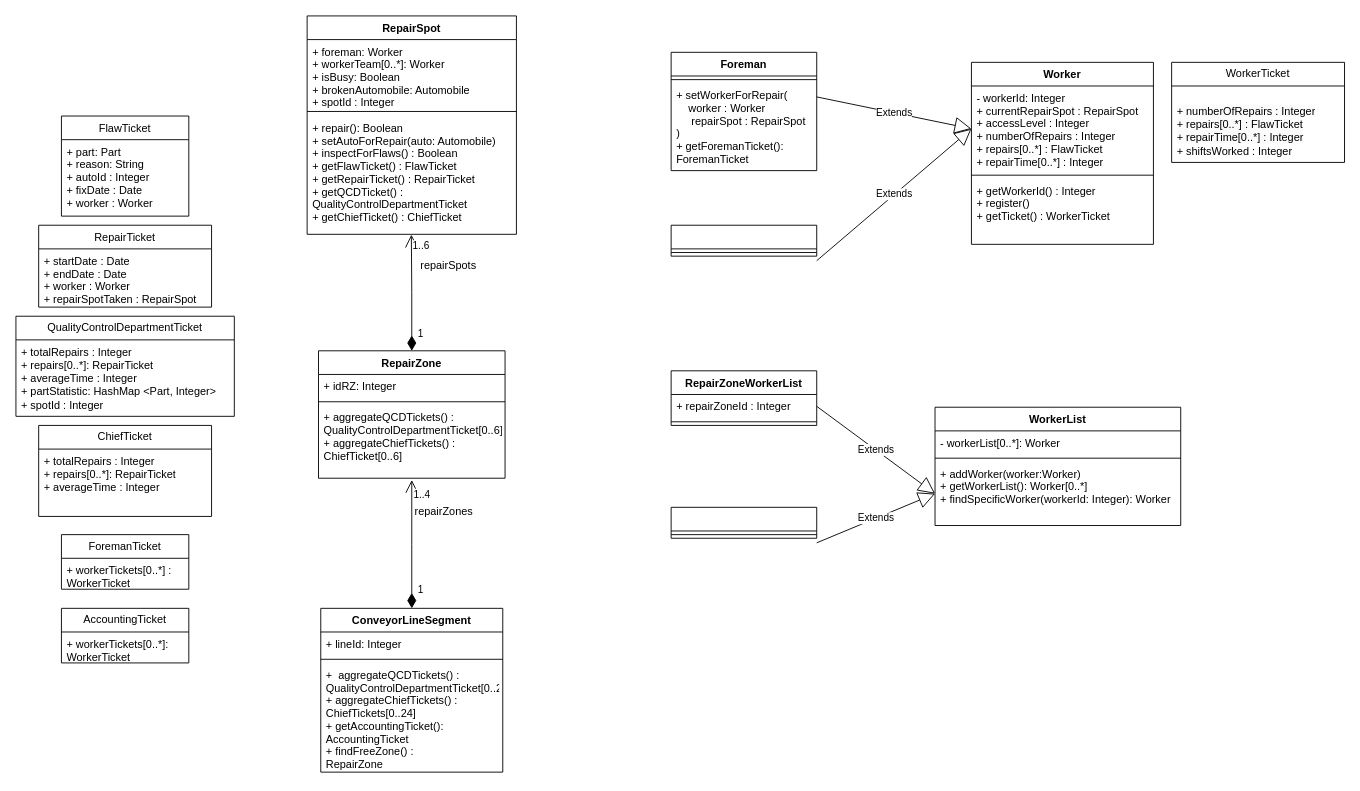
The diagram is 1360 pixels wide and 791 high, and some of its shapes have lost their labels. The shapes that lost their labels are listed below. From the top down, each one's centre as x and y in pixels, then its label:
the point at 743,240: RegularWorker
the point at 743,522: GlobalWorkerList
